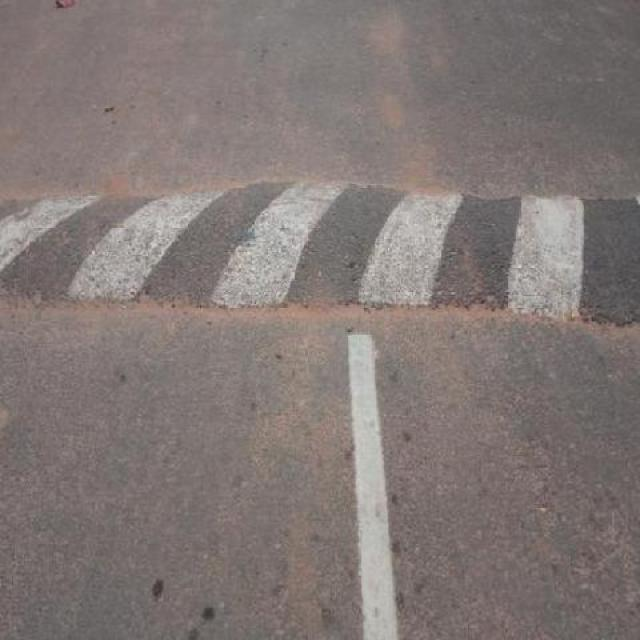Speed Bump: (0, 185, 639, 332)
